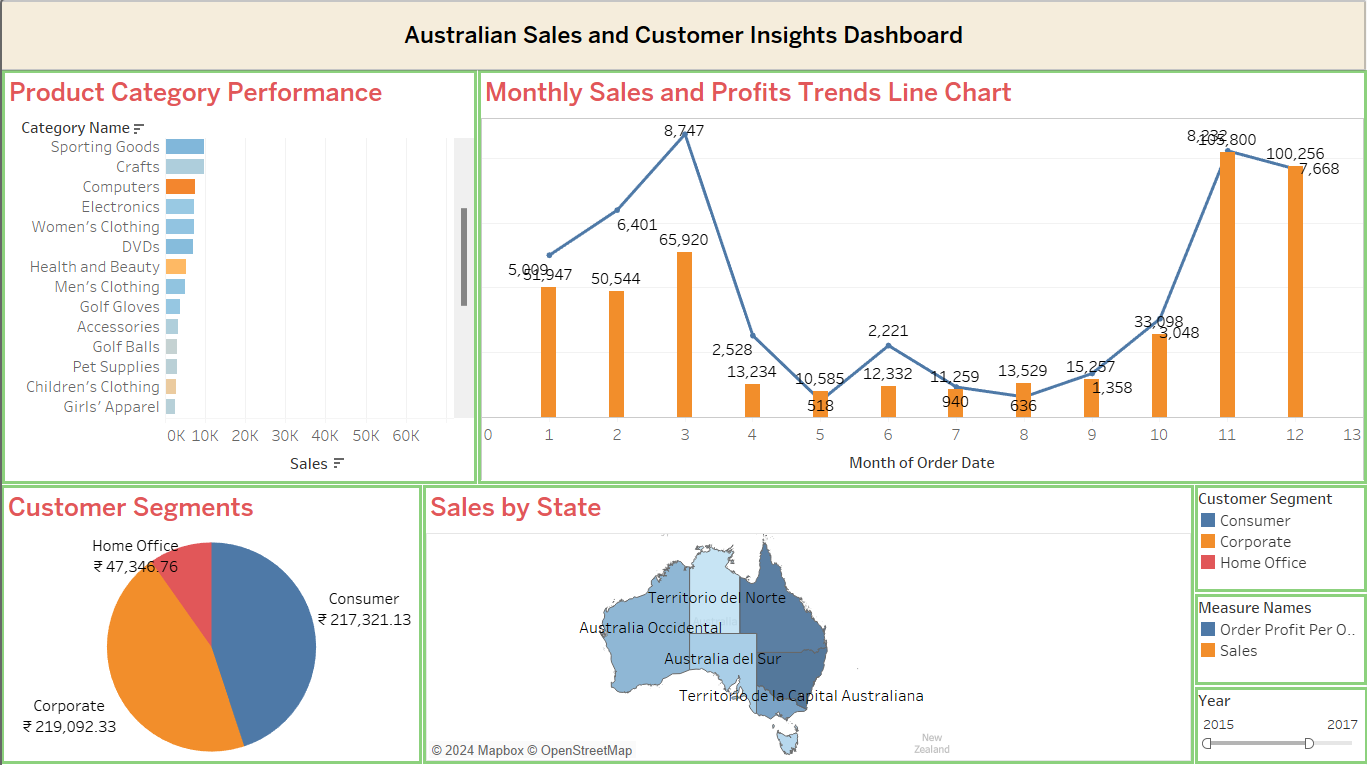

The dashboard page shown, as its layout file describes it:
{"tool":"tableau","page":{"name":"Australian Sales and Customer Insights Dashboard","canvas":[1366,768],"ordinal":0},"visuals":[{"type":"text","box":[1,4,1365,67]},{"type":"worksheet","title":"Product Category Performance ","mark":"Automatic","rows":["Category_Name"],"cols":["Sales"],"box":[2,72,475,414]},{"type":"worksheet","title":"Monthly Sales Trends Line Chart","mark":"Bar","rows":["Order_Profit_Per_Order","Sales"],"cols":["Order_Date"],"box":[478,72,889,414]},{"type":"worksheet","title":"Customer Segments","mark":"Pie","box":[1,487,421,279]},{"type":"worksheet","title":"Sales by State Heatmap","mark":"Automatic","box":[423,487,771,279]},{"type":"legend","title":"Customer Segments","param":"[federated.0koomta1otj2vb1d8gt1e04et1rw].[none:Customer_Segment:nk]","box":[1195,487,172,107]},{"type":"legend","title":"Monthly Sales Trends Line Chart","param":"[federated.0koomta1otj2vb1d8gt1e04et1rw].[:Measure Names]","box":[1195,596,172,91]},{"type":"filter","title":"Sales by State Heatmap","param":"[federated.0koomta1otj2vb1d8gt1e04et1rw].[none:Year:qk]","box":[1195,689,173,77]}]}

Visuals, with their boxes in screenshot pixels (x1, y1, x2, y2), scaled from the page's 1366x768 canvas onto the 1367x765 screenshot:
text: x1=1 y1=4 x2=1366 y2=71
"Product Category Performance " worksheet: x1=2 y1=72 x2=477 y2=484
"Monthly Sales Trends Line Chart" worksheet (Bar marks): x1=478 y1=72 x2=1366 y2=484
"Customer Segments" worksheet (Pie marks): x1=1 y1=485 x2=422 y2=763
"Sales by State Heatmap" worksheet: x1=423 y1=485 x2=1195 y2=763
"Customer Segments" legend: x1=1196 y1=485 x2=1366 y2=592
"Monthly Sales Trends Line Chart" legend: x1=1196 y1=594 x2=1366 y2=684
"Sales by State Heatmap" filter: x1=1196 y1=686 x2=1366 y2=763
